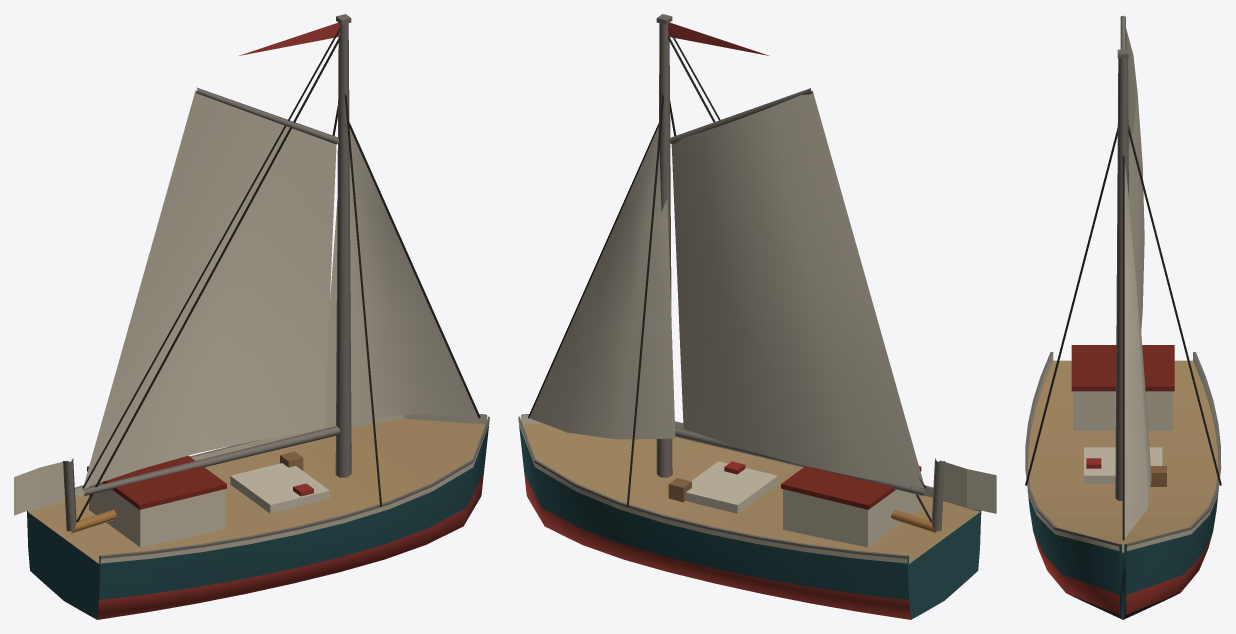
The model's file is hull_other_work_small.glb.
The picture shows the model from 3 angles, left to right: view 1: azimuth 30°, elevation 25°; view 2: azimuth 150°, elevation 25°; view 3: azimuth 270°, elevation 25°; orthographic projection. The views are drawn at different scales.
Visible parts, largest first — view 1: sail_main, hull, sail_jib, deck, mast, rigging, boom_spar, flag, gaff; view 2: sail_main, hull, sail_jib, deck, mast, flag, rigging, boom_spar, gaff; view 3: hull, deck, sail_jib, mast, rigging, sail_main.
Boxes of the visible parts, <box> form: sail_main: <box>84,90,336,487</box>; hull: <box>27,414,489,619</box>; sail_jib: <box>321,128,478,429</box>; deck: <box>71,451,329,547</box>; mast: <box>63,14,351,531</box>; rigging: <box>76,36,480,522</box>; boom_spar: <box>82,27,340,495</box>; flag: <box>14,22,339,515</box>; gaff: <box>195,87,339,144</box>; sail_main: <box>671,90,924,488</box>; hull: <box>518,414,981,619</box>; sail_jib: <box>529,127,675,439</box>; deck: <box>668,461,937,547</box>; mast: <box>656,14,944,531</box>; flag: <box>668,22,996,513</box>; rigging: <box>528,37,931,522</box>; boom_spar: <box>668,27,926,496</box>; gaff: <box>669,88,812,144</box>; hull: <box>1025,352,1221,619</box>; deck: <box>1071,345,1174,486</box>; sail_jib: <box>1124,163,1151,537</box>; mast: <box>1115,49,1128,500</box>; rigging: <box>1025,126,1221,540</box>; sail_main: <box>1126,29,1144,331</box>.
Size of the model in its own units: 11.2 by 11.99 by 4.11.
